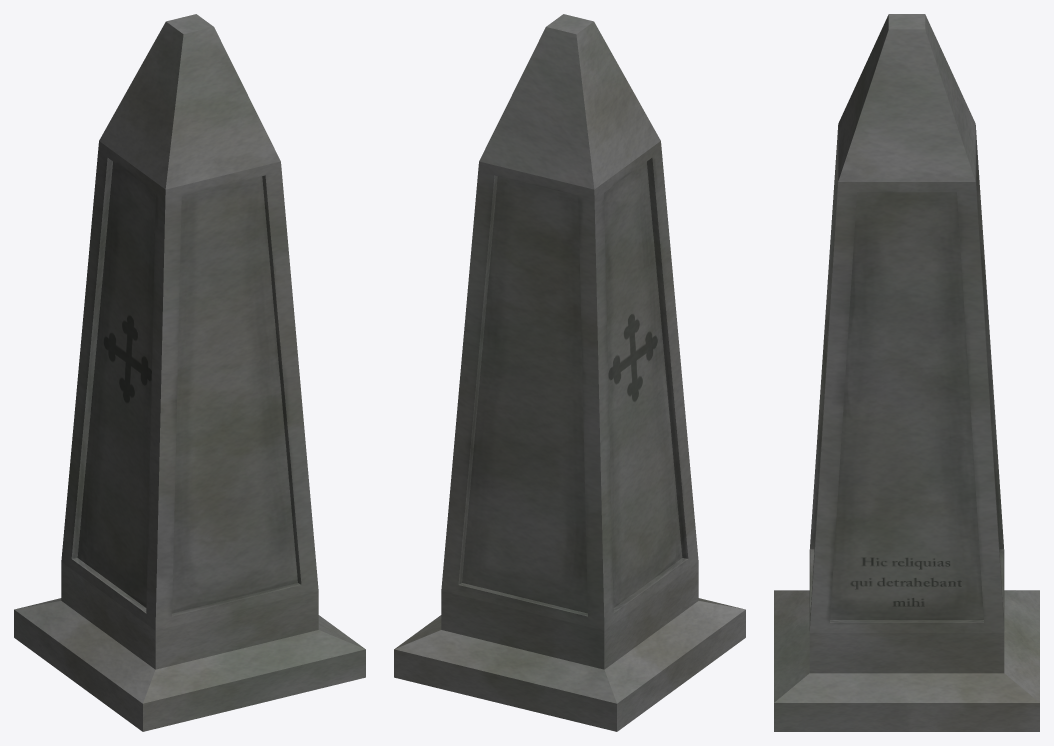
File: grave_04.fbx
3 views of the same model, side by side, from view 1: azimuth 30°, elevation 25°; view 2: azimuth 150°, elevation 25°; view 3: azimuth 270°, elevation 25° (orthographic). The views are drawn at different scales.
Visible parts, largest first — view 1: grave 4; view 2: grave 4; view 3: grave 4.
Boxes of the visible parts, x1,y1,x2,y2 form: grave 4: (14, 14, 365, 731); grave 4: (394, 14, 745, 731); grave 4: (774, 14, 1039, 731).
Bounding box in the file's own units: 1.11 × 3 × 1.11.
